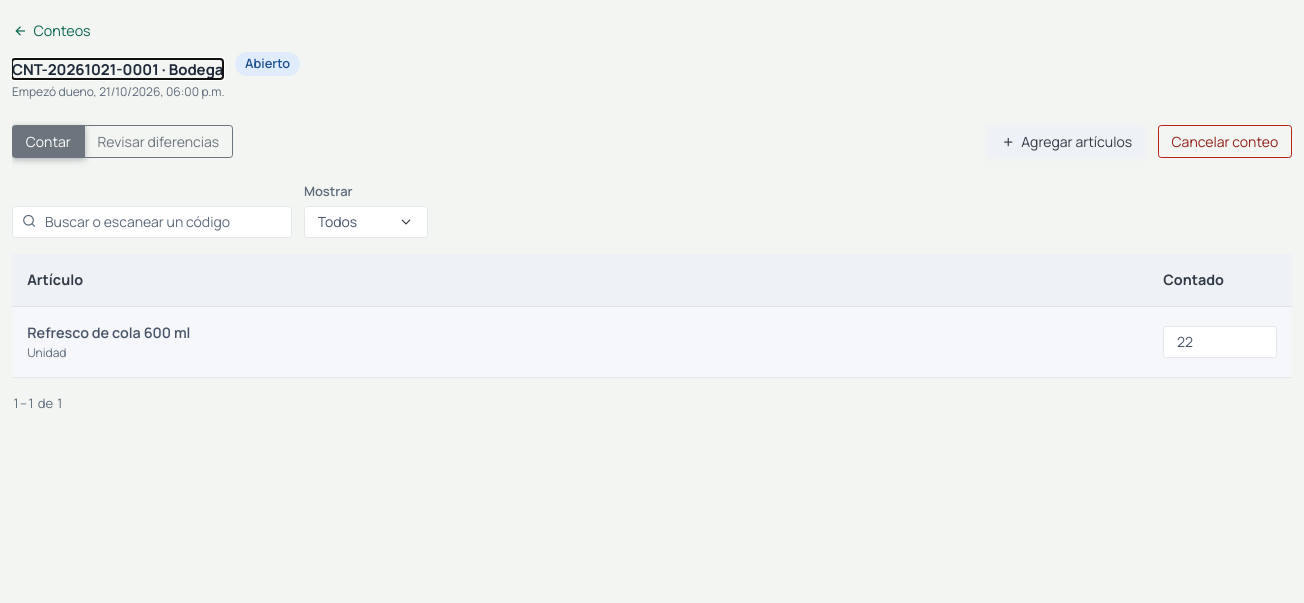
Test case: CountDetail › reviews the differences with what they are worth, and what was not counted stays
Click the button "Revisar diferencias". click: coordinates (158, 142)
box: [84,125,233,158]
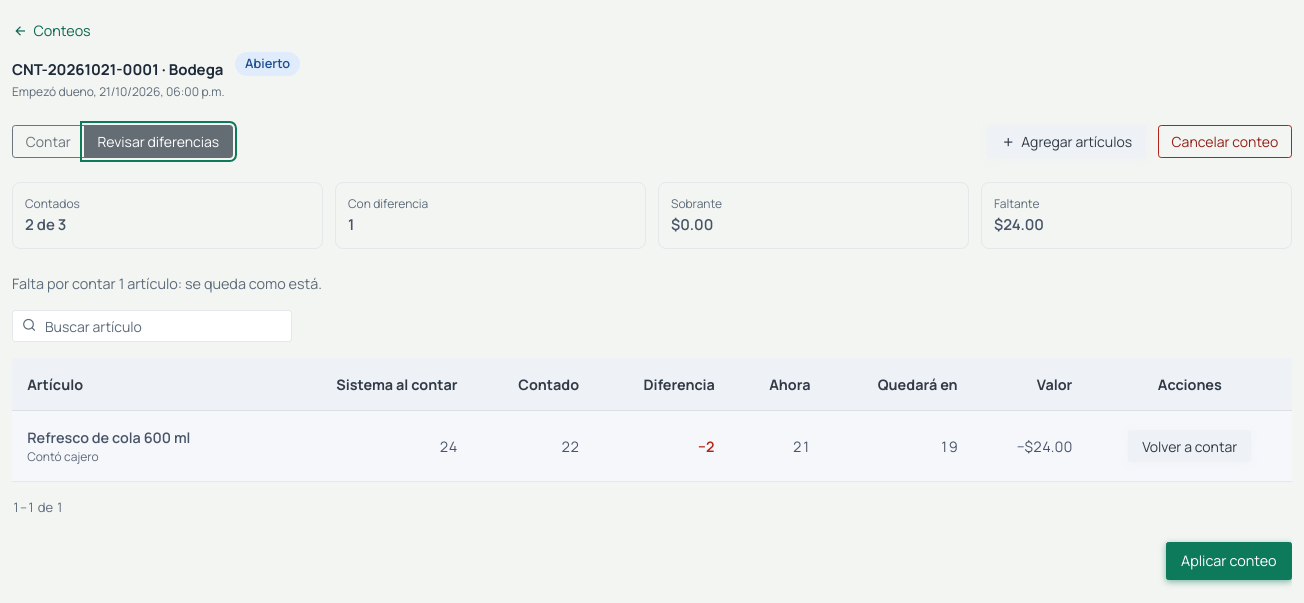
Result: the text "2 de 3" is shown at [25,214,66,234]
Result: the text "Falta por contar 1 artículo: se queda como está." is shown at [12,274,322,293]
Result: the text "−2" is shown at [594,411,730,482]
